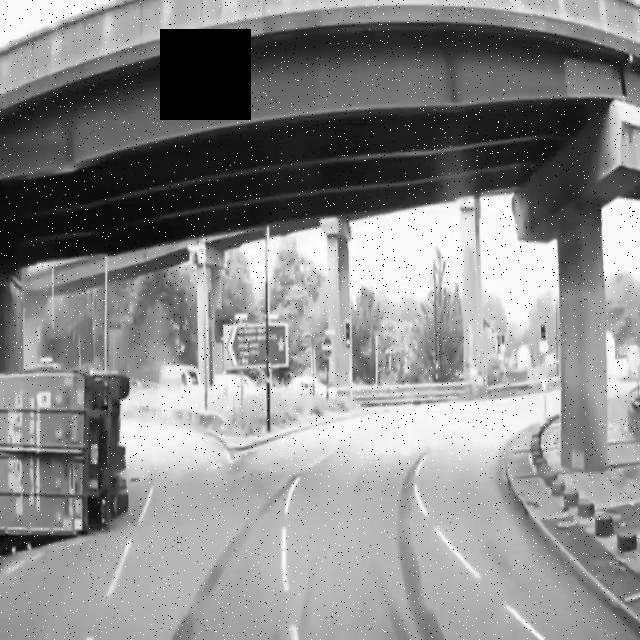person: (1, 321, 156, 560)
